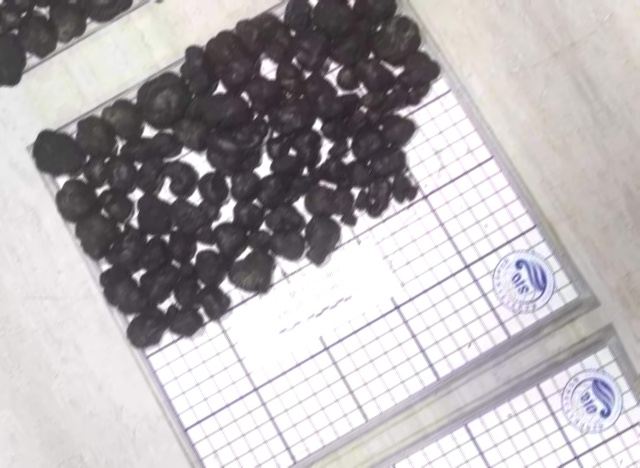halobolite: (25, 125, 79, 179), (328, 1, 371, 65), (229, 252, 283, 294), (75, 208, 114, 264), (295, 218, 341, 263), (377, 112, 426, 152), (126, 272, 171, 314), (179, 102, 217, 150), (105, 96, 143, 142), (135, 195, 177, 232), (101, 273, 136, 313), (290, 128, 322, 171), (355, 177, 388, 216), (309, 184, 346, 218), (144, 239, 183, 271), (213, 220, 245, 257), (404, 58, 433, 98), (136, 310, 168, 346), (286, 155, 318, 187), (168, 168, 201, 199), (200, 168, 228, 203), (334, 66, 368, 94), (201, 279, 228, 313), (389, 173, 421, 200), (231, 172, 262, 199), (172, 306, 197, 339)
